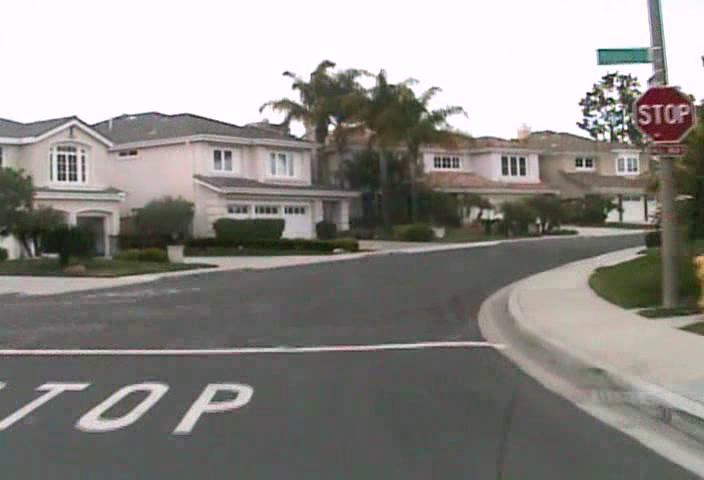stop: (634, 84, 696, 143)
